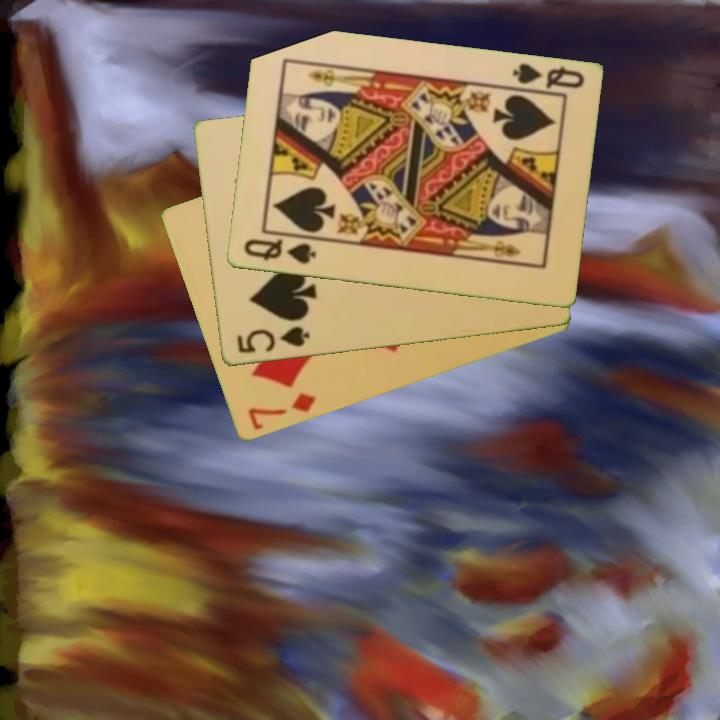5s: (233, 323, 312, 357)
7d: (244, 389, 319, 434)
Qs: (240, 235, 319, 267), (508, 60, 587, 92)
